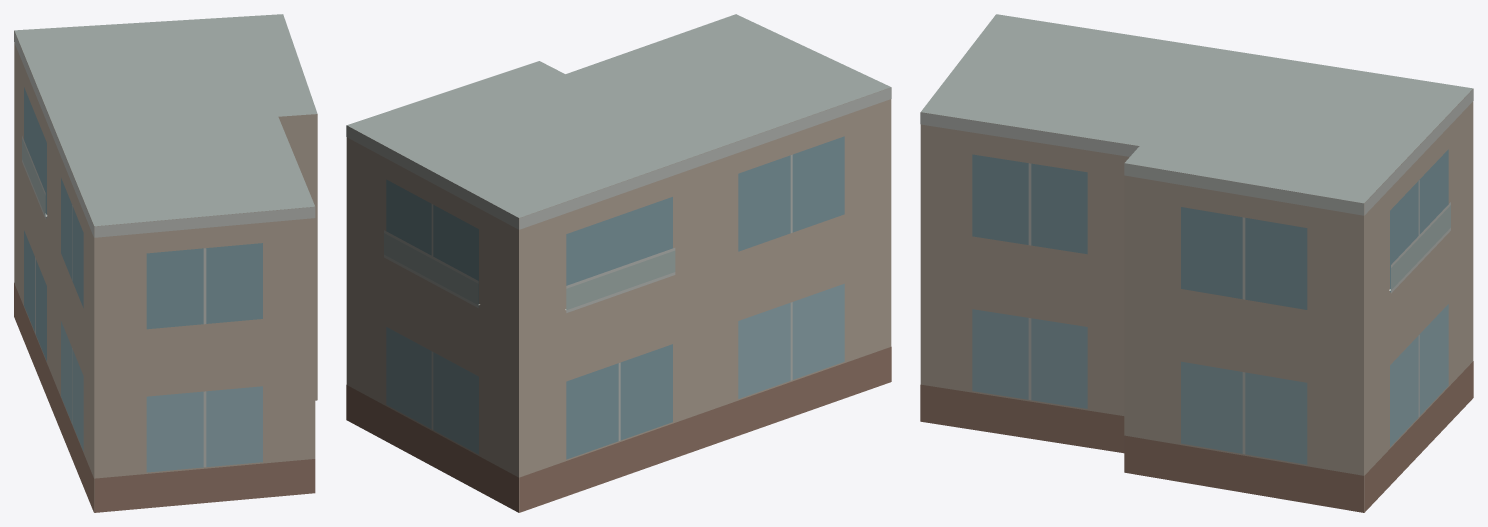
File: survey-upis-32818281.glb
3 views of the same model, side by side, from view 1: azimuth 30°, elevation 25°; view 2: azimuth 150°, elevation 25°; view 3: azimuth 270°, elevation 25° (orthographic). The views are drawn at different scales.
Visible parts, largest first — view 1: survey-upis-32818281.tmp; view 2: survey-upis-32818281.tmp; view 3: survey-upis-32818281.tmp.
Part boxes in pixels (x1,y1,x2,y2): survey-upis-32818281.tmp: (14,14,317,512); survey-upis-32818281.tmp: (346,14,891,512); survey-upis-32818281.tmp: (920,14,1473,512).
Size of the model in its own units: 8.02 by 6.1 by 9.89.
